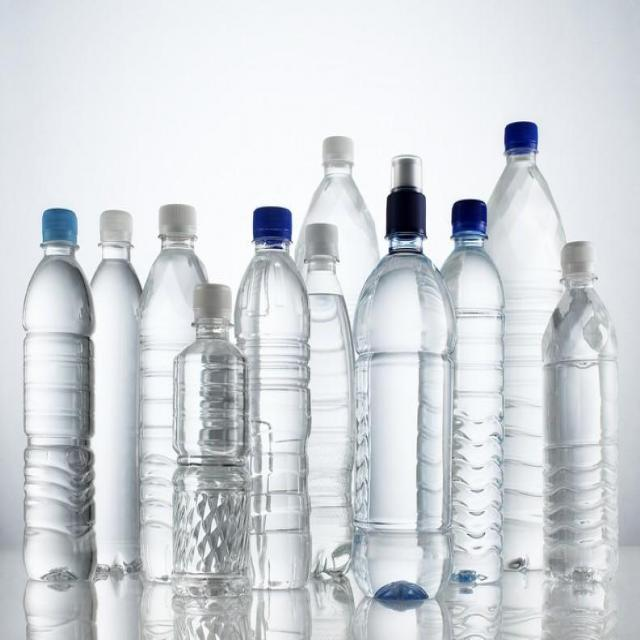bottle: (533, 237, 632, 597), (19, 201, 104, 610)
